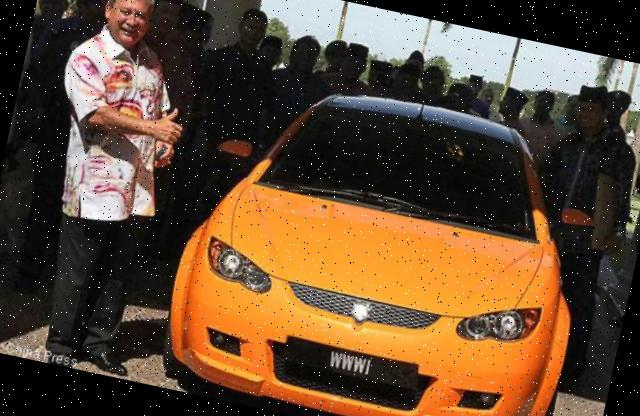License_Plate: (285, 338, 421, 392)
car: (153, 60, 613, 416)
